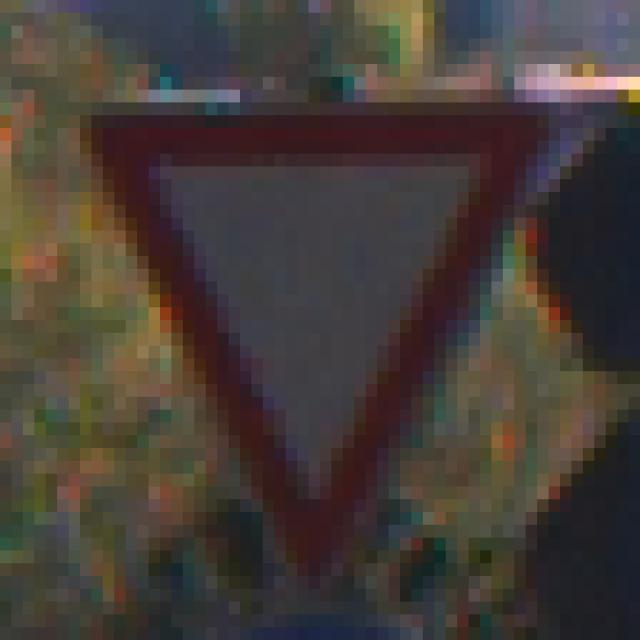Give Way: (58, 65, 584, 577)
